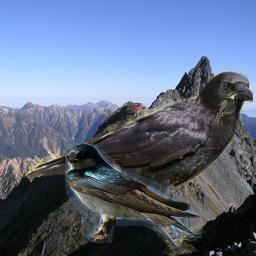Crow: (18, 70, 253, 256)
Cuckoo: (209, 92, 238, 126)
Swallow: (65, 144, 202, 243)
